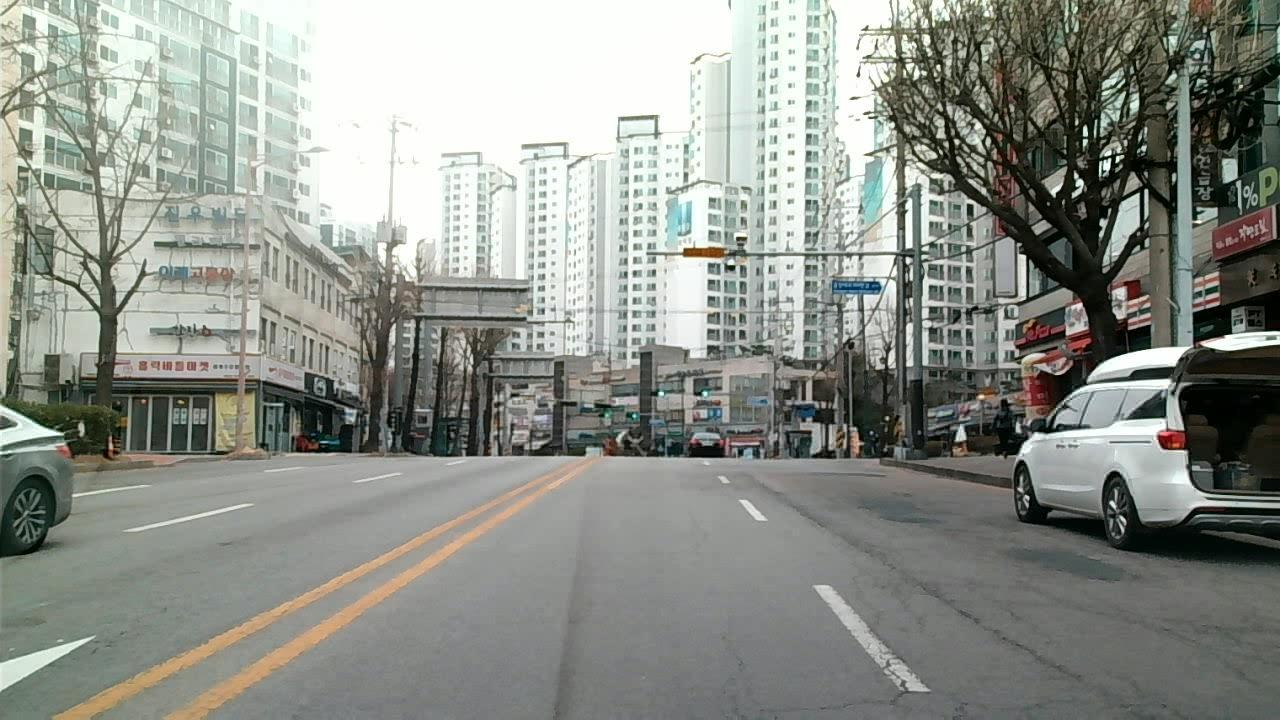vcrack: (912, 582, 1135, 720), (790, 501, 910, 574), (864, 632, 911, 720)
